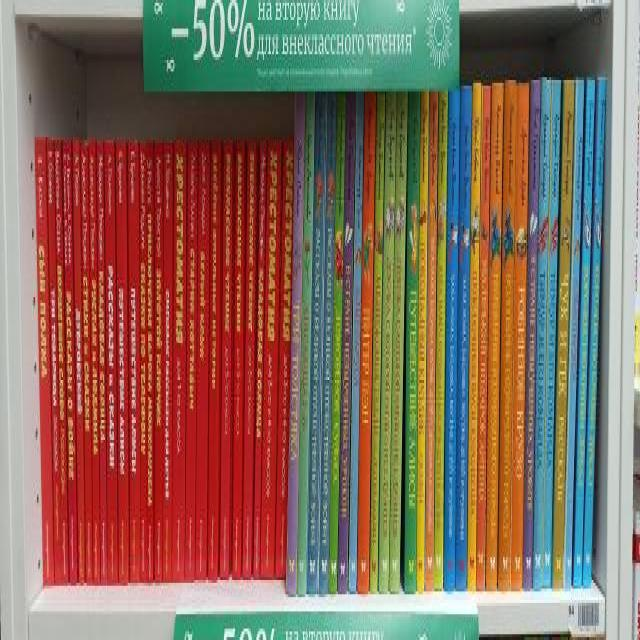book: (572, 80, 596, 587), (583, 77, 606, 589), (552, 80, 574, 589), (563, 81, 584, 587), (306, 91, 327, 594), (286, 91, 306, 597), (357, 91, 377, 596), (510, 84, 529, 590), (319, 91, 338, 596), (498, 78, 516, 591), (533, 79, 551, 590), (523, 79, 541, 589), (543, 79, 561, 588), (486, 82, 504, 589), (297, 91, 315, 596), (338, 90, 356, 594), (379, 90, 397, 592), (261, 136, 281, 580), (390, 90, 407, 594), (455, 86, 472, 590), (329, 91, 346, 594), (275, 139, 294, 578), (35, 136, 53, 585), (405, 90, 421, 593), (370, 92, 386, 594), (476, 84, 491, 590), (445, 89, 460, 591), (424, 90, 439, 591), (350, 90, 365, 591), (434, 90, 449, 590), (46, 135, 61, 583), (62, 139, 77, 584), (172, 139, 187, 582), (468, 81, 481, 590), (54, 139, 68, 584), (196, 138, 210, 581), (417, 90, 429, 593), (208, 131, 221, 580), (105, 140, 118, 585), (185, 138, 198, 582), (220, 136, 233, 579), (243, 138, 256, 579), (253, 137, 266, 578), (232, 137, 245, 577), (116, 136, 128, 584), (72, 138, 84, 583), (128, 138, 140, 581), (80, 143, 92, 584), (89, 137, 100, 584), (97, 138, 107, 584), (163, 138, 173, 582), (154, 137, 163, 581), (140, 139, 148, 582), (147, 140, 154, 581)
